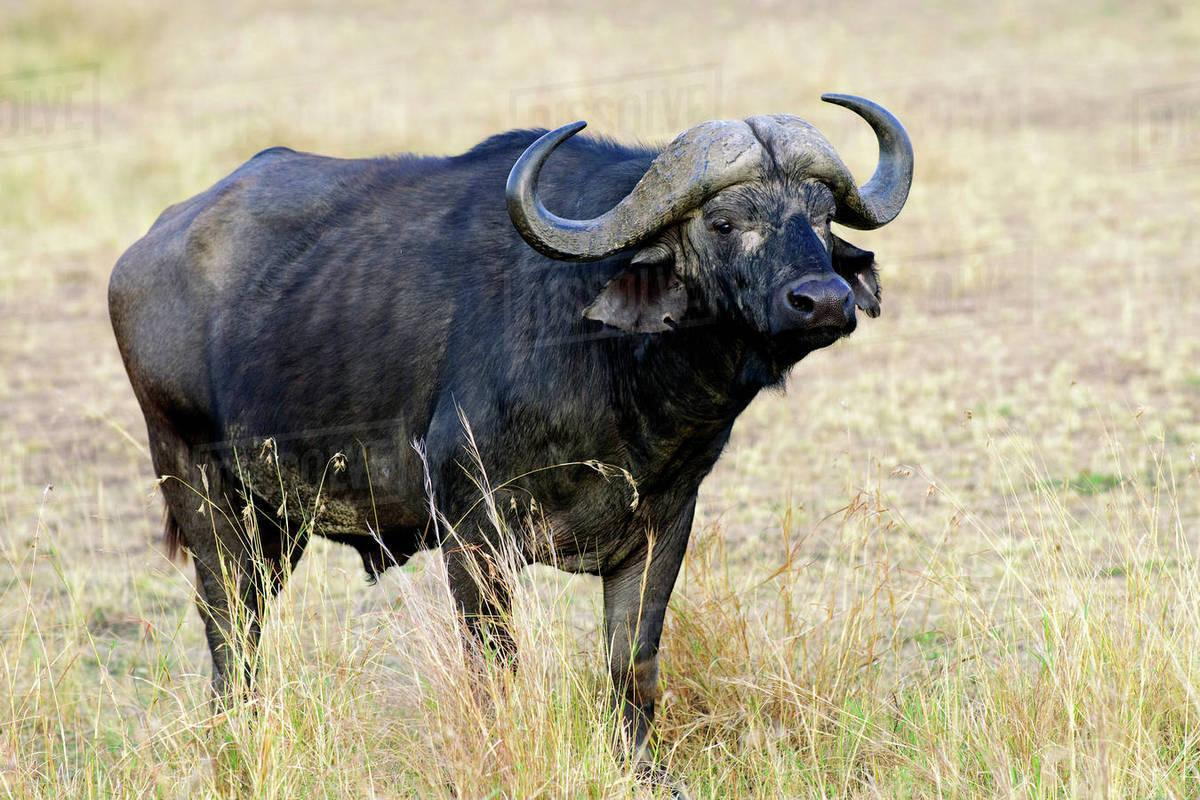Buffalo: (116, 65, 887, 720)
